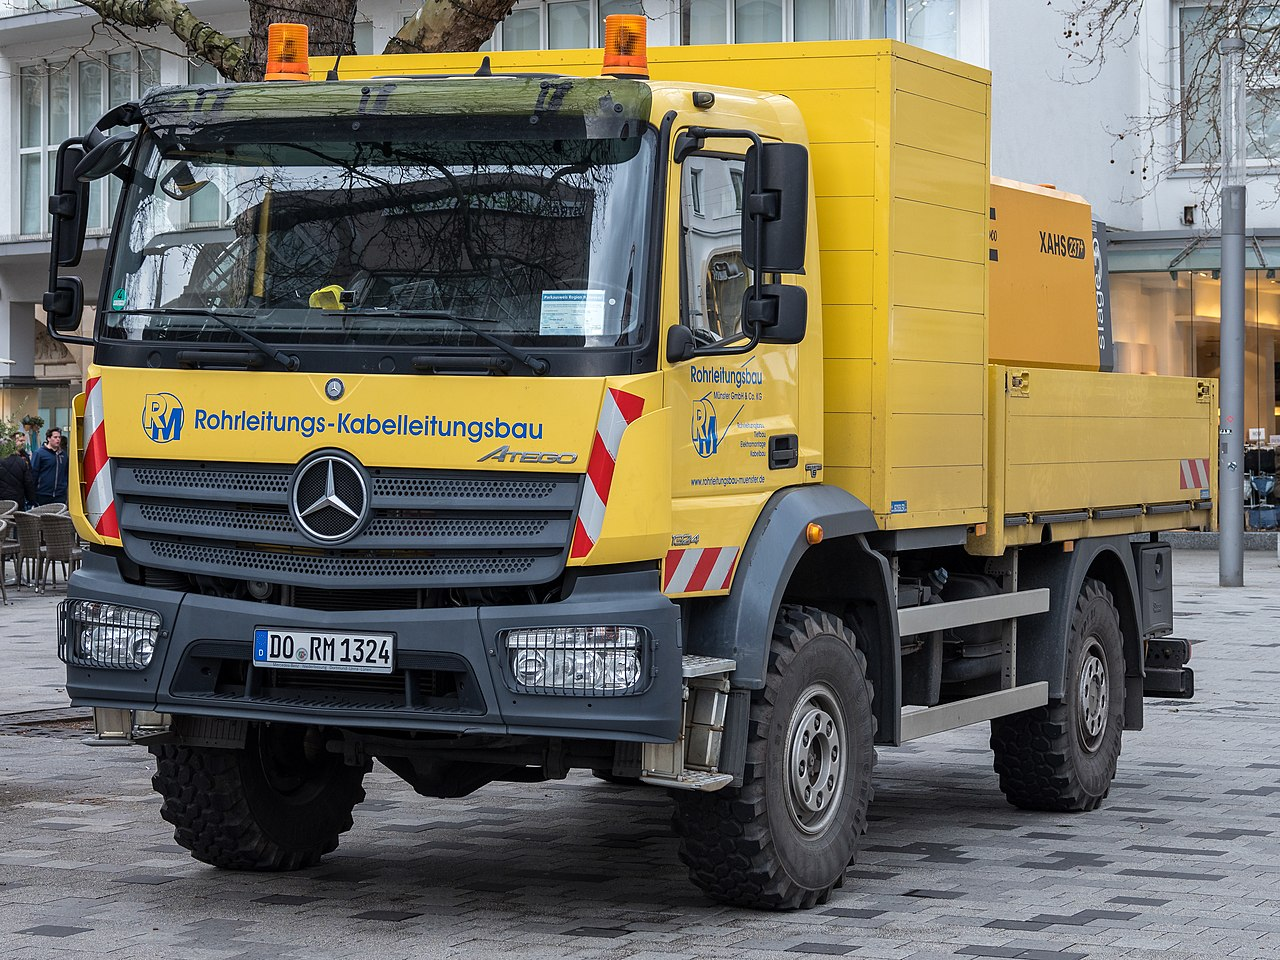plate: (251, 626, 395, 675)
